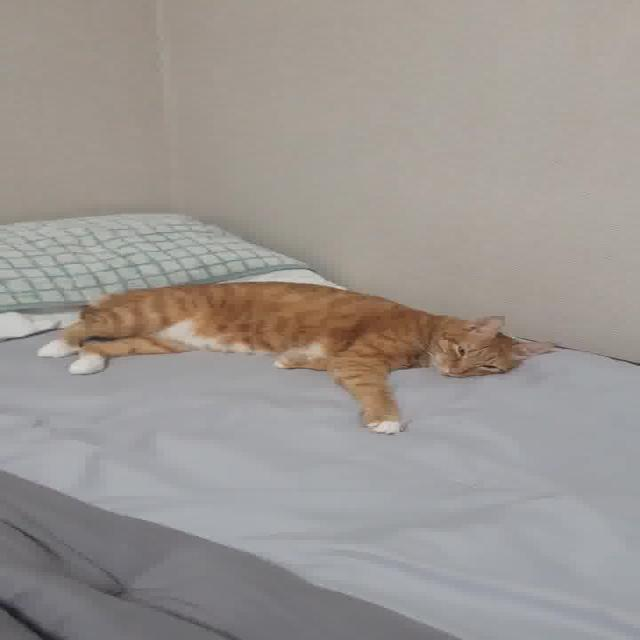cat: (0, 263, 590, 446)
